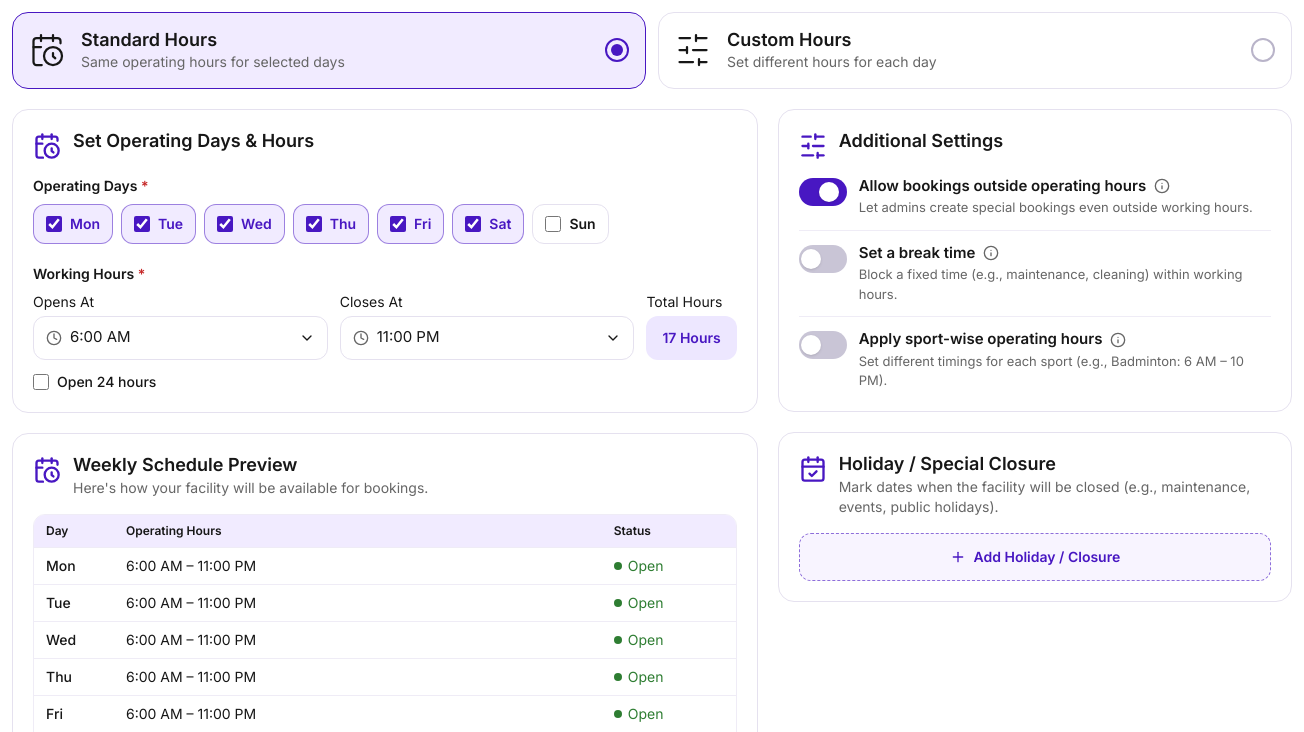
OperatingHoursSetupForm › changing the times updates the total and the weekly preview
The width and height of the screenshot is (1304, 732).
Expected: the radio button labelled "Standard Hours Same operating hours for selected days" is shown, [12,12,646,88]
Click the dropdown named "Closes at" at (408, 337), box [340,316,634,360]
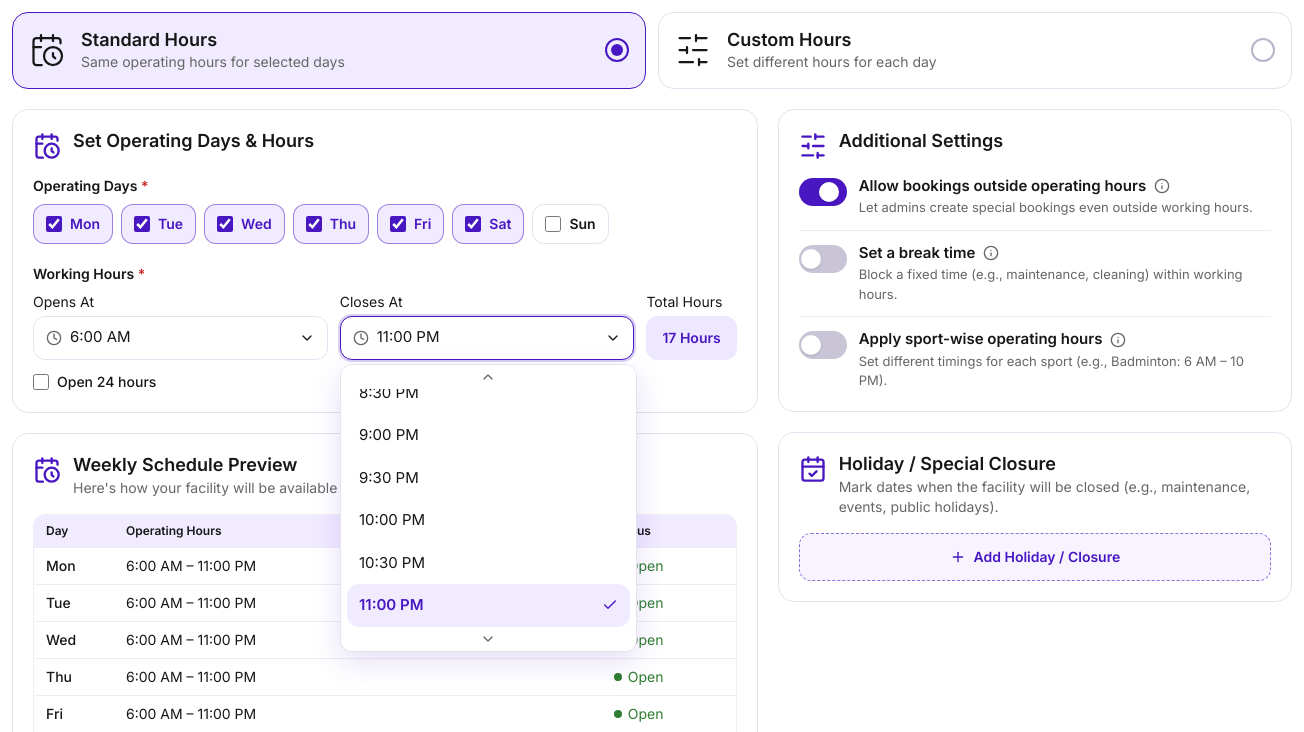
Click the option "10:00 PM" at (392, 520), box [359,510,425,529]
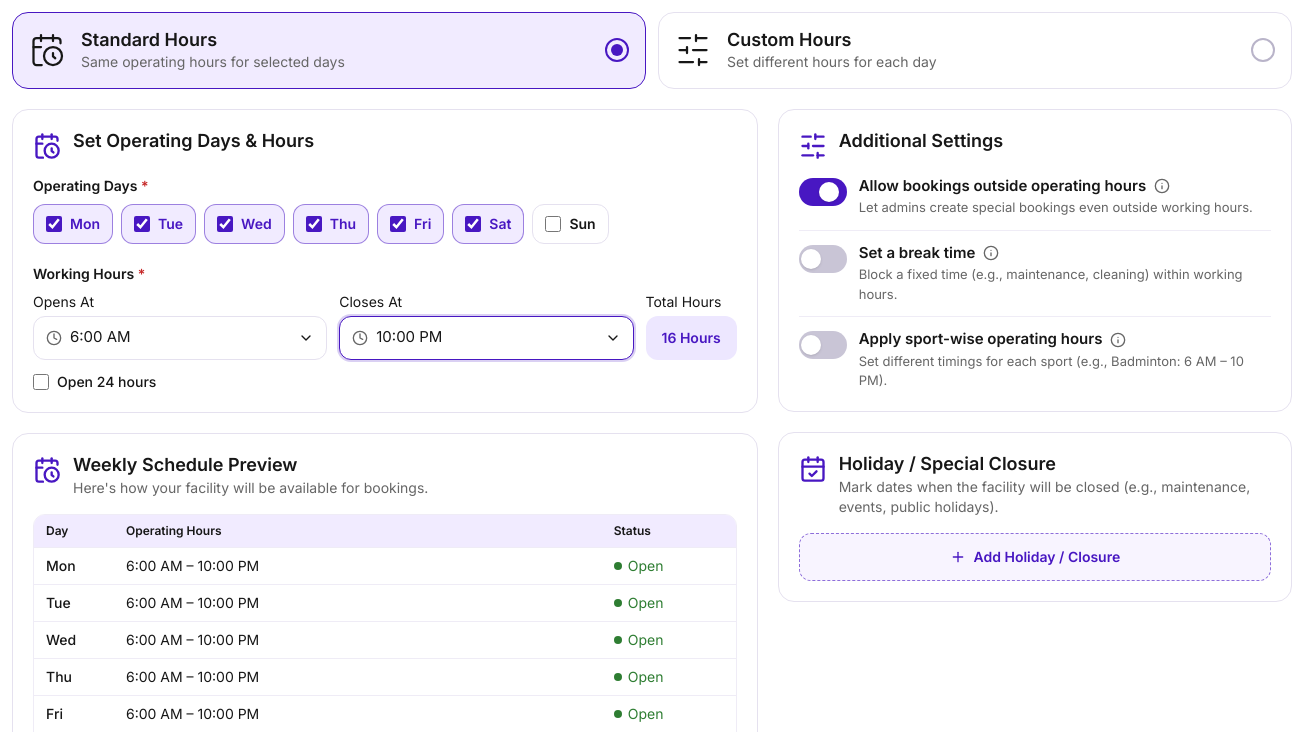
Expected: the text with test id "daily-total" reads "16 Hours", [662,328,721,346]
